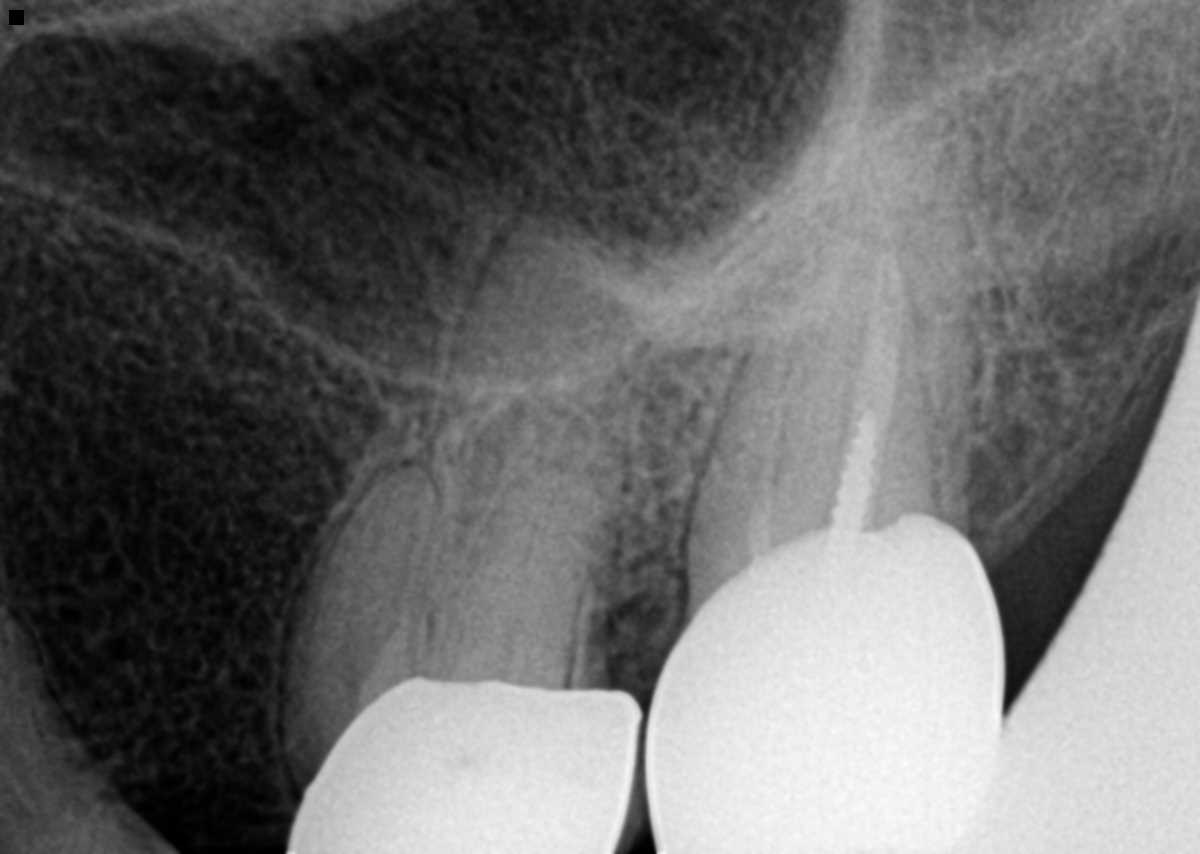Distal Canal: (344, 509, 381, 707)
Distal Root: (287, 456, 438, 775)
Mesial Root: (444, 447, 626, 684)
Palatal Root: (402, 211, 641, 685), (751, 26, 971, 529)
Root Canal Filling: (747, 319, 802, 543), (853, 253, 904, 425)
